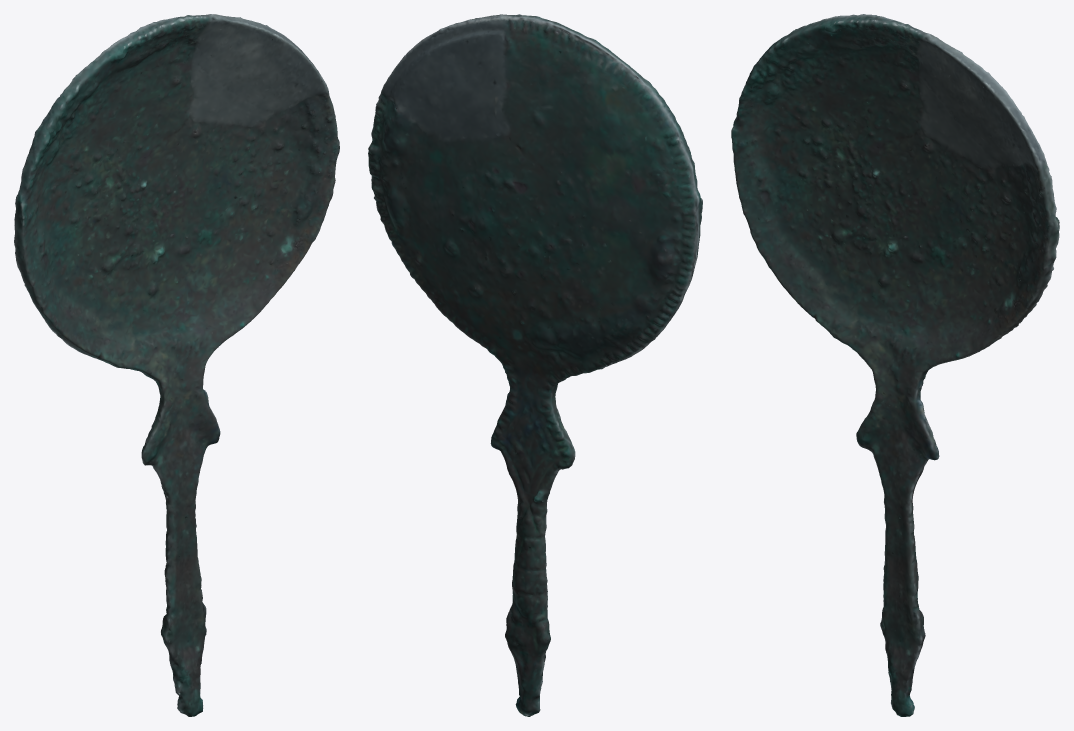
File: Case1_Small_Mirror.fbx
3 renders of one model, left to right at view 1: azimuth 30°, elevation 25°; view 2: azimuth 150°, elevation 25°; view 3: azimuth 330°, elevation 25°, orthographic.
Visible parts, largest first — view 1: Case1_Small_Mirror_LP; view 2: Case1_Small_Mirror_LP; view 3: Case1_Small_Mirror_LP.
Boxes of the visible parts, x1,y1,x2,y2 form: Case1_Small_Mirror_LP: (14, 14, 339, 716); Case1_Small_Mirror_LP: (368, 14, 702, 716); Case1_Small_Mirror_LP: (731, 14, 1059, 716).
Size of the model in its own units: 8.57 by 17.57 by 0.9365.
